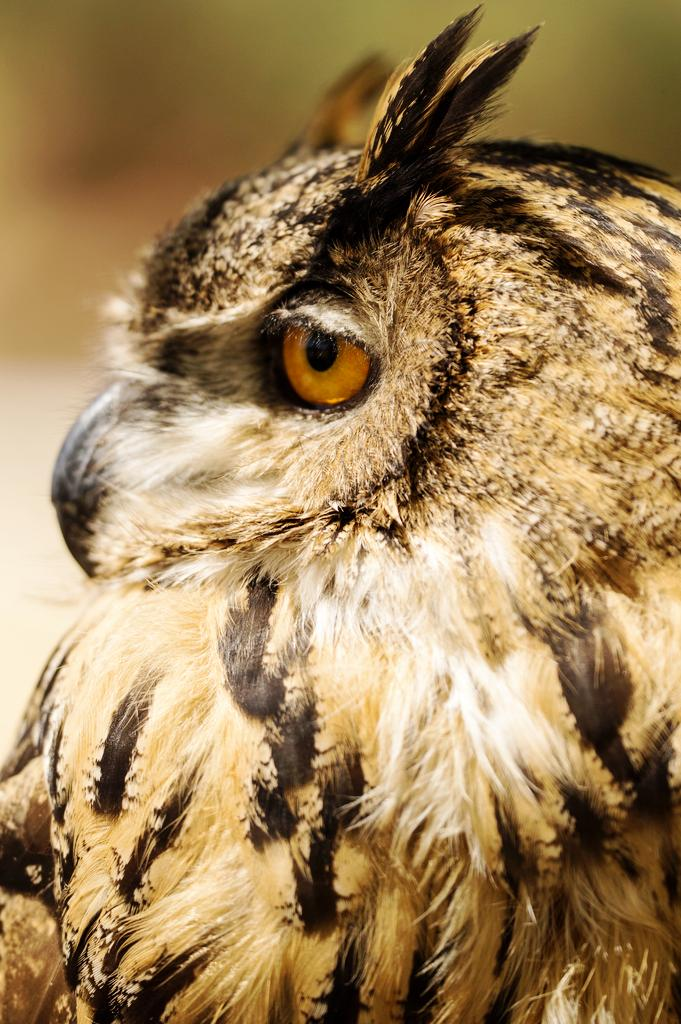Owl: (0, 2, 680, 1024), (0, 4, 680, 1024)
